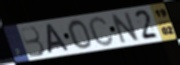2: (134, 9, 159, 42)
A: (46, 23, 72, 55)
B: (18, 25, 46, 59)
C: (87, 15, 116, 48)
N: (109, 10, 141, 45)
O: (67, 19, 94, 50)
